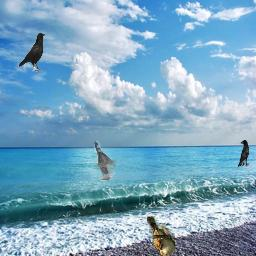Crow: (18, 32, 45, 72), (238, 140, 249, 167)
Cuckoo: (147, 216, 175, 256), (94, 141, 116, 181)
